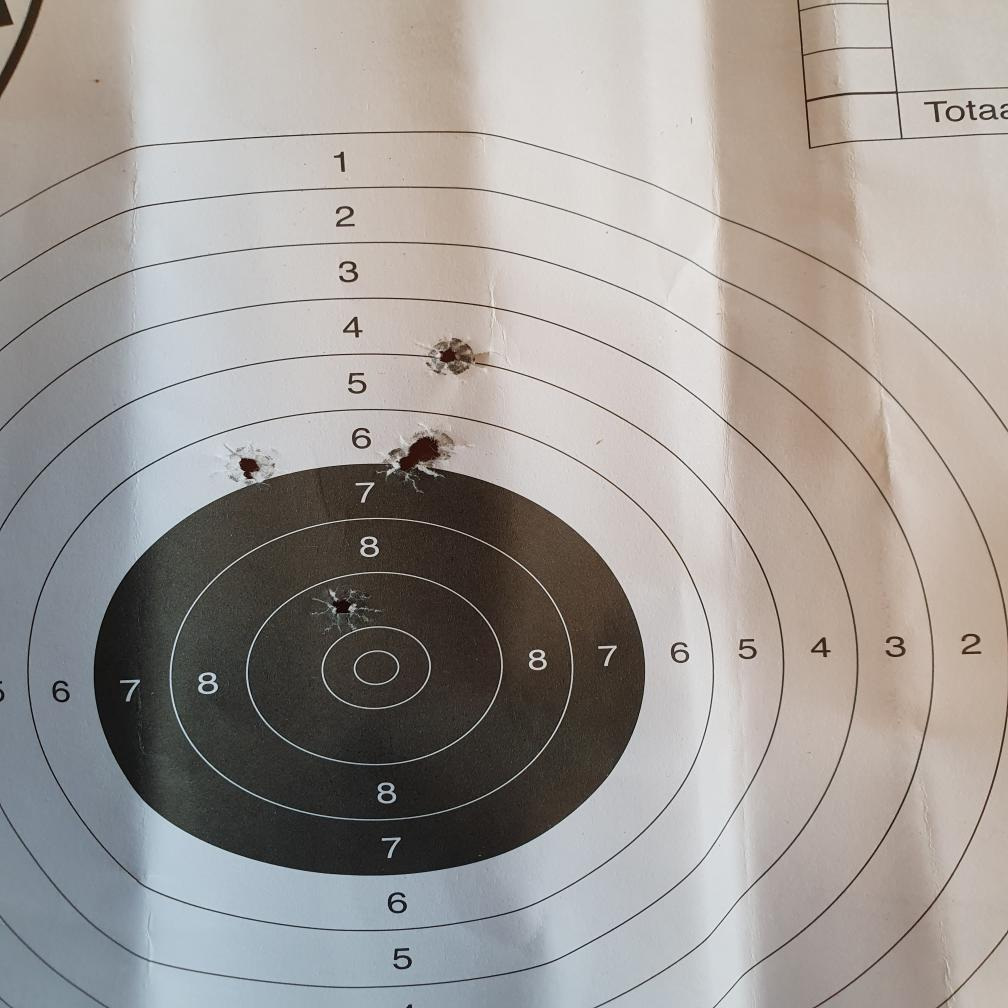5: (424, 335, 482, 378)
6: (403, 432, 452, 468)
7: (222, 442, 278, 485), (370, 452, 424, 493)
9: (310, 585, 379, 631)
Target: (4, 133, 1008, 1008)
black_contour: (92, 464, 648, 878)
